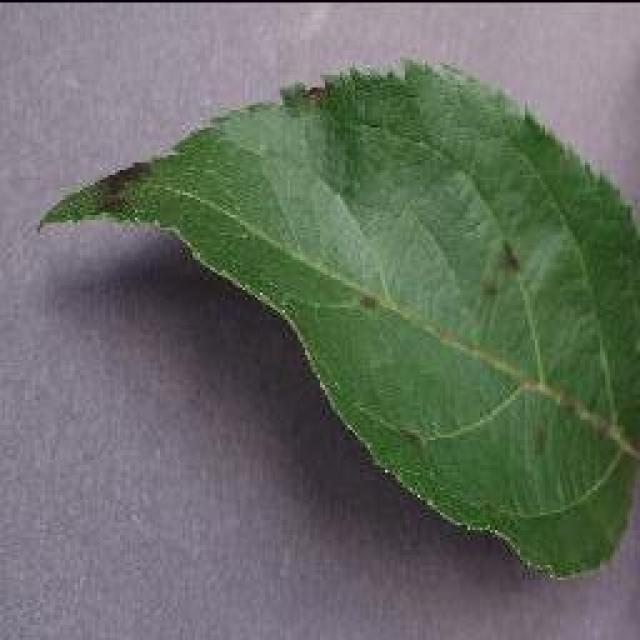apple scab disease: (35, 52, 637, 580)
